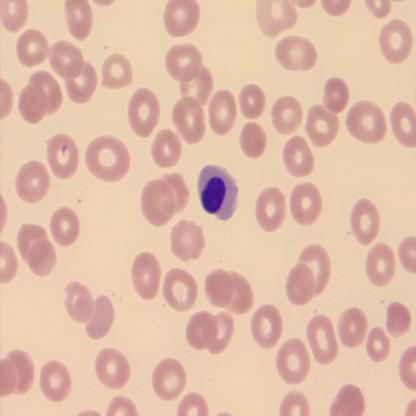NRC: (195, 162, 240, 223)
